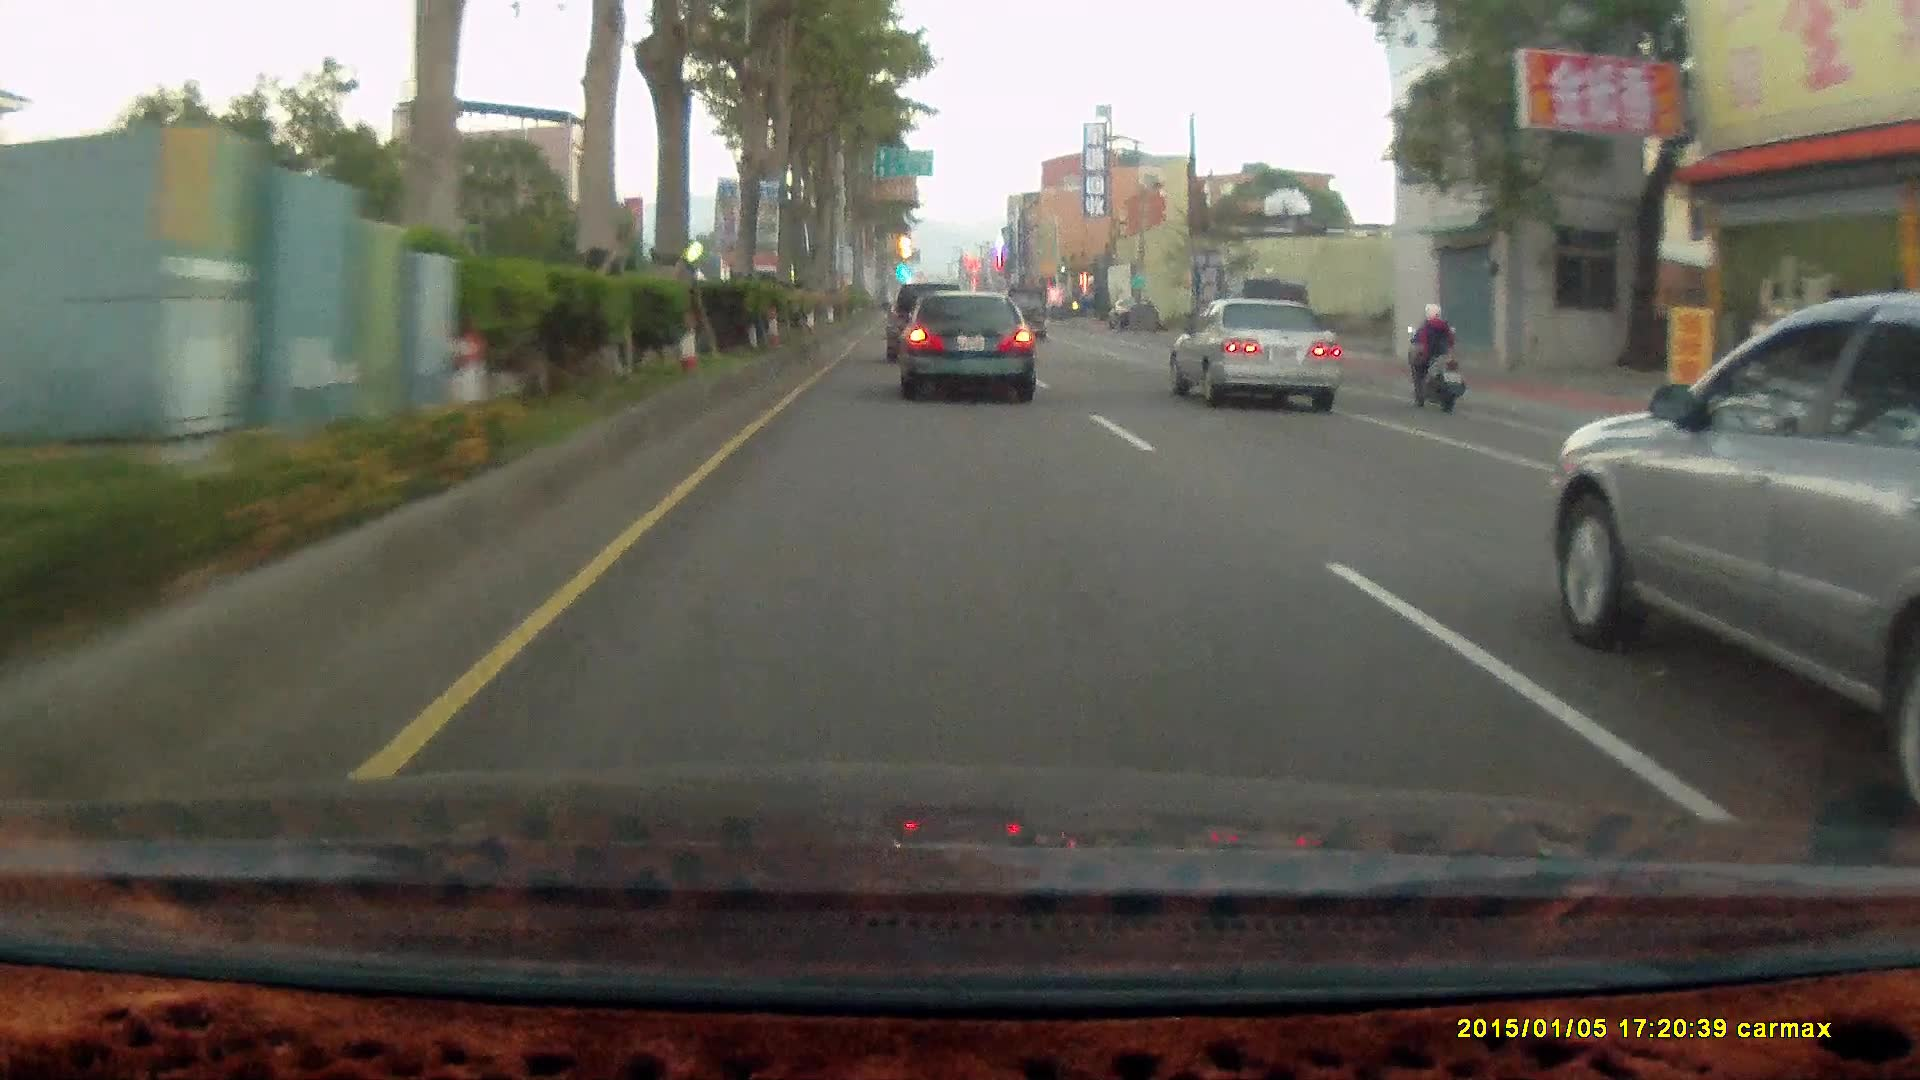rider: (1394, 293, 1474, 419), (1402, 296, 1467, 411)
vehicle: (1546, 300, 1920, 821), (1167, 294, 1343, 412), (1177, 300, 1343, 407), (897, 291, 1037, 403), (898, 289, 1036, 400), (886, 281, 973, 364), (1218, 280, 1307, 360), (883, 280, 965, 360), (1000, 285, 1047, 340)
